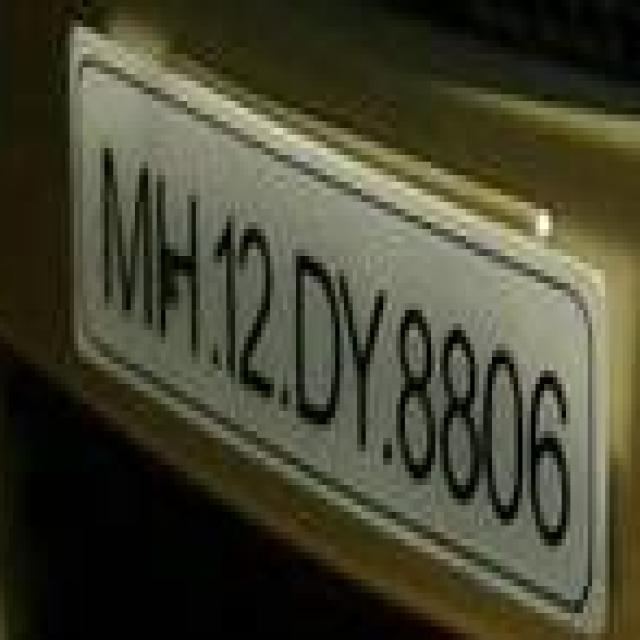license_plate: (66, 81, 610, 552)
